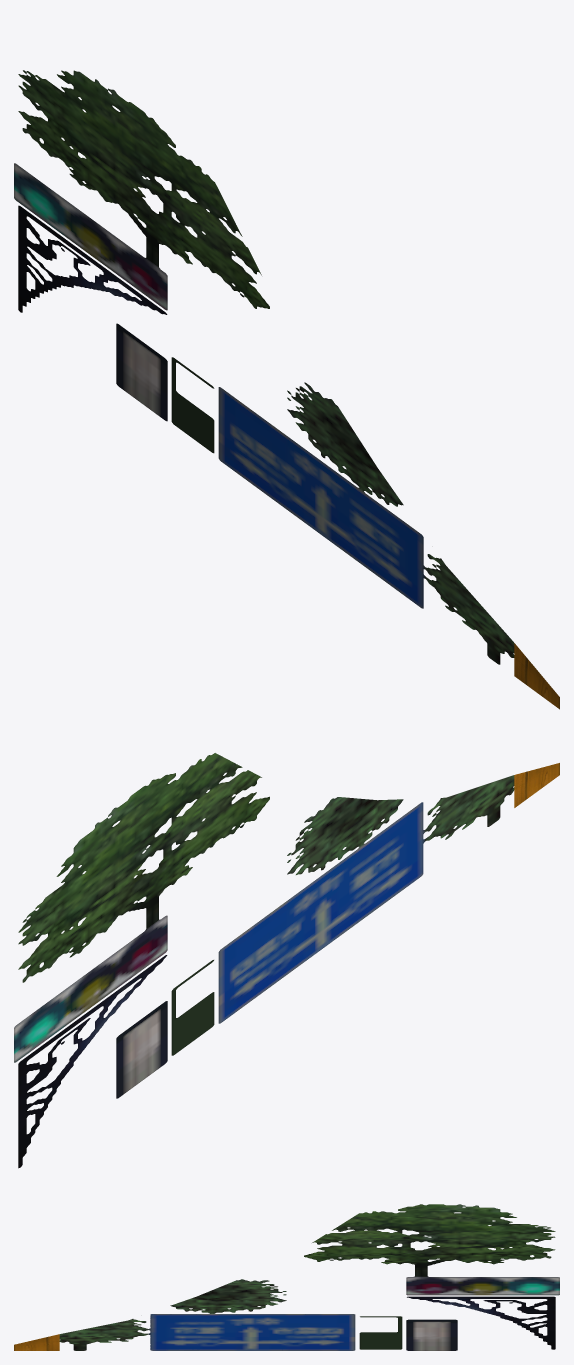
The picture shows the model from 3 angles, top to bottom: view 1: azimuth 30°, elevation 25°; view 2: azimuth 150°, elevation 25°; view 3: azimuth 270°, elevation 25°; orthographic projection. The views are drawn at different scales.
Visible parts, largest first — view 1: Joint_0_Object_0, Joint_0_Object_1; view 2: Joint_0_Object_0, Joint_0_Object_1; view 3: Joint_0_Object_0, Joint_0_Object_1.
Part boxes in pixels (<box>): Joint_0_Object_0: <box>14,70,514,664</box>; Joint_0_Object_1: <box>514,643,559,709</box>; Joint_0_Object_0: <box>14,753,514,1168</box>; Joint_0_Object_1: <box>514,763,559,807</box>; Joint_0_Object_0: <box>59,1204,559,1350</box>; Joint_0_Object_1: <box>14,1334,59,1350</box>.
Size of the model in its own units: 0.22 by 1111 by 3719.
